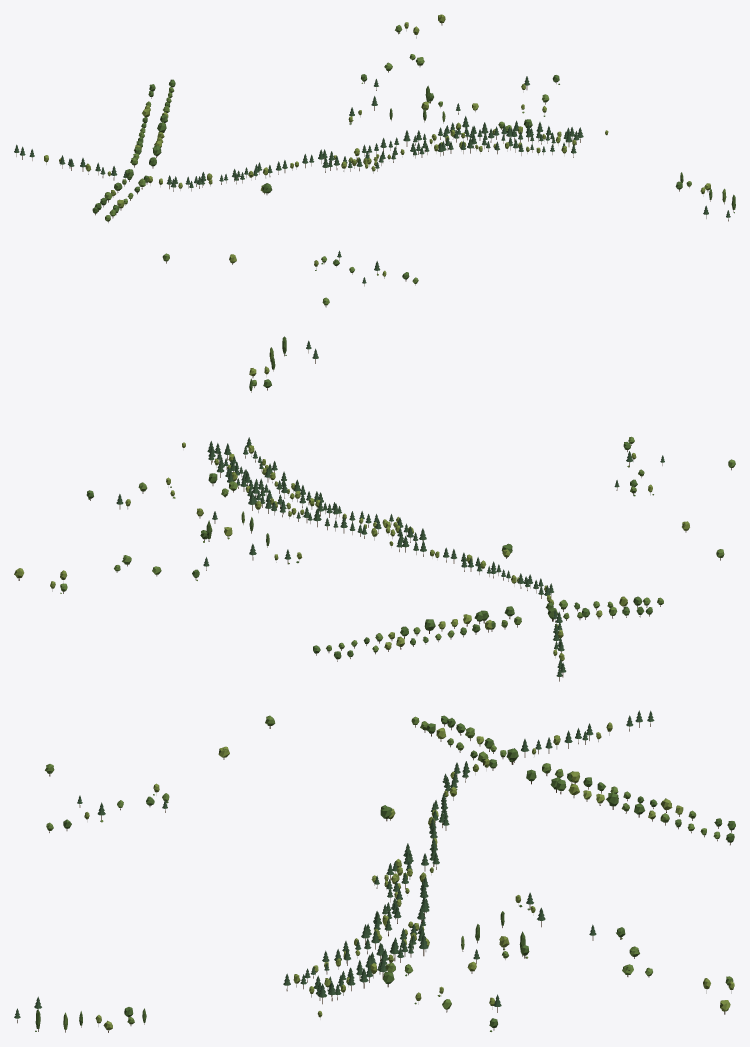
Rendered from Natura_2_0.fbx.
3 views of the same model, one above another, from view 1: azimuth 30°, elevation 25°; view 2: azimuth 150°, elevation 25°; view 3: azimuth 270°, elevation 25° (orthographic). The views are drawn at different scales.
Bounding box in the file's own units: 503 × 19.4 × 496.
